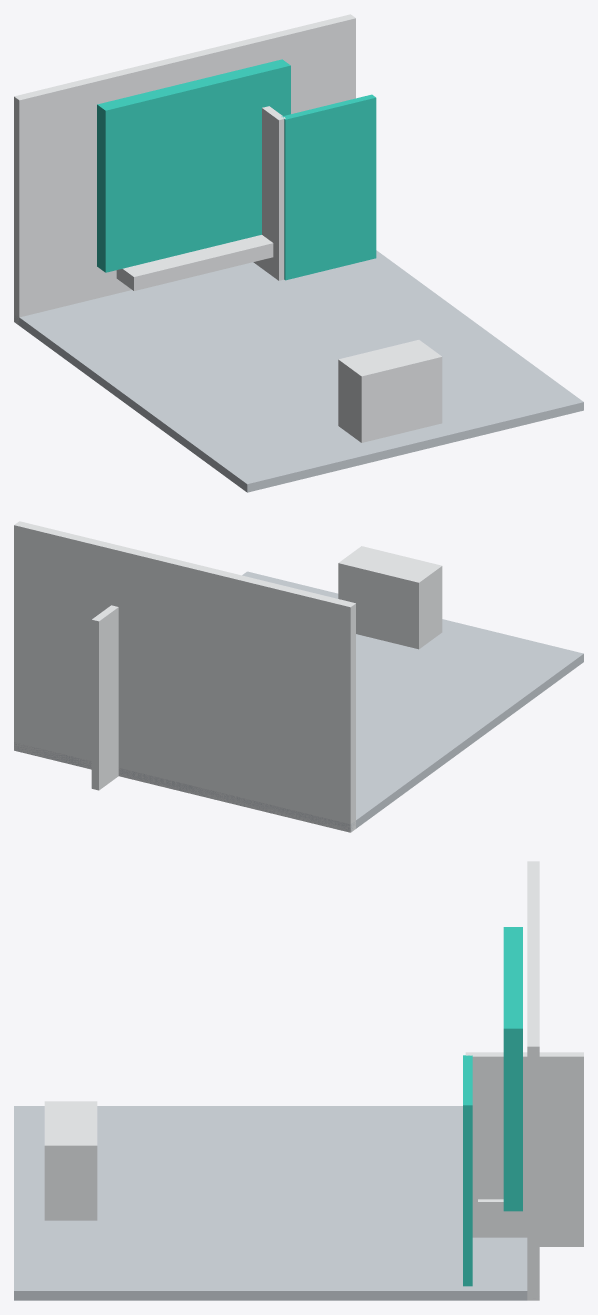
3 renders of one model, top to bottom at view 1: azimuth 30°, elevation 25°; view 2: azimuth 150°, elevation 25°; view 3: azimuth 270°, elevation 25°, orthographic. The views are drawn at different scales.
Parts seen in each view (by area): view 1: Exhibition Booth Concept; view 2: Exhibition Booth Concept; view 3: Exhibition Booth Concept.
Boxes of the visible parts, left/top/right/bottom form: Exhibition Booth Concept: left=14, top=14, right=583, bottom=492; Exhibition Booth Concept: left=14, top=521, right=583, bottom=832; Exhibition Booth Concept: left=14, top=861, right=583, bottom=1300.
Bounding box in the file's own units: 5 × 3.2 × 6.51.
